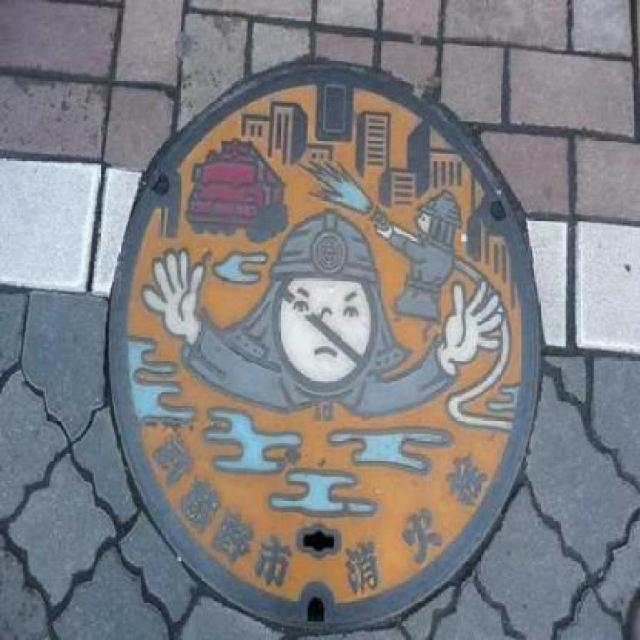Manhole: (74, 50, 560, 636)
